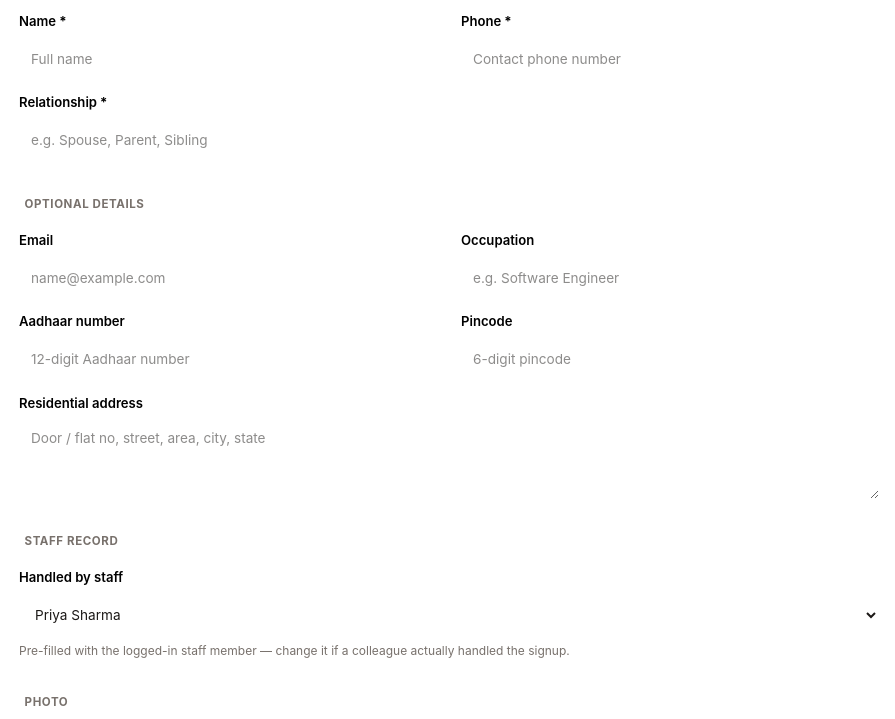
Scenario: AddMemberPage — the form › masks aadhaar as it is typed
(page scrolled)
Step 1. Type "1234 5678 9012 99" into the field with id "aadhaar_number" → {"x": 228, "y": 360}, box [19,338,437,382]
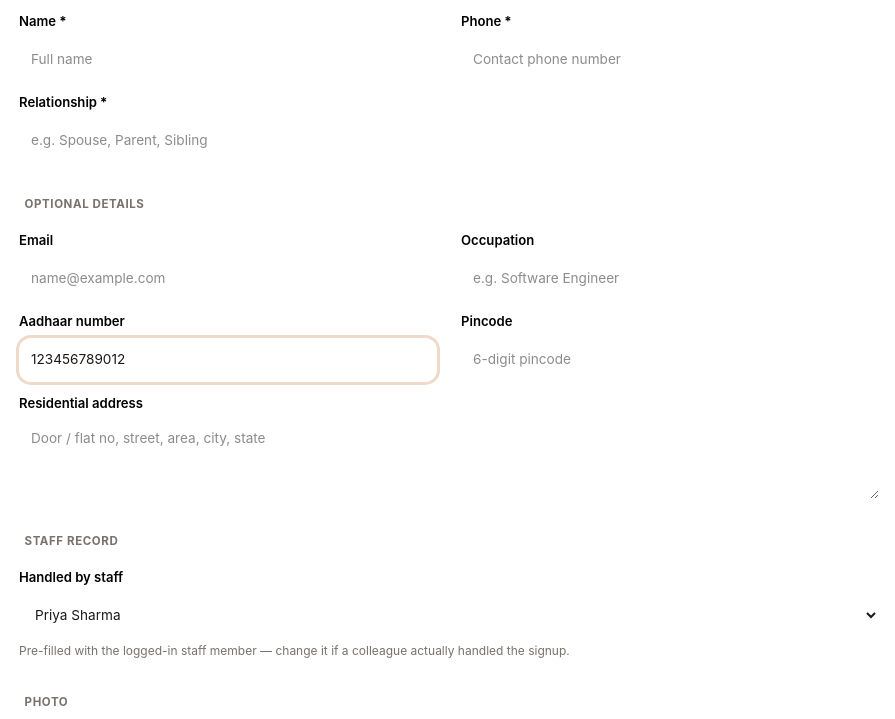
Check: the field with id "aadhaar_number" holds "123456789012", box [19,338,437,382]
